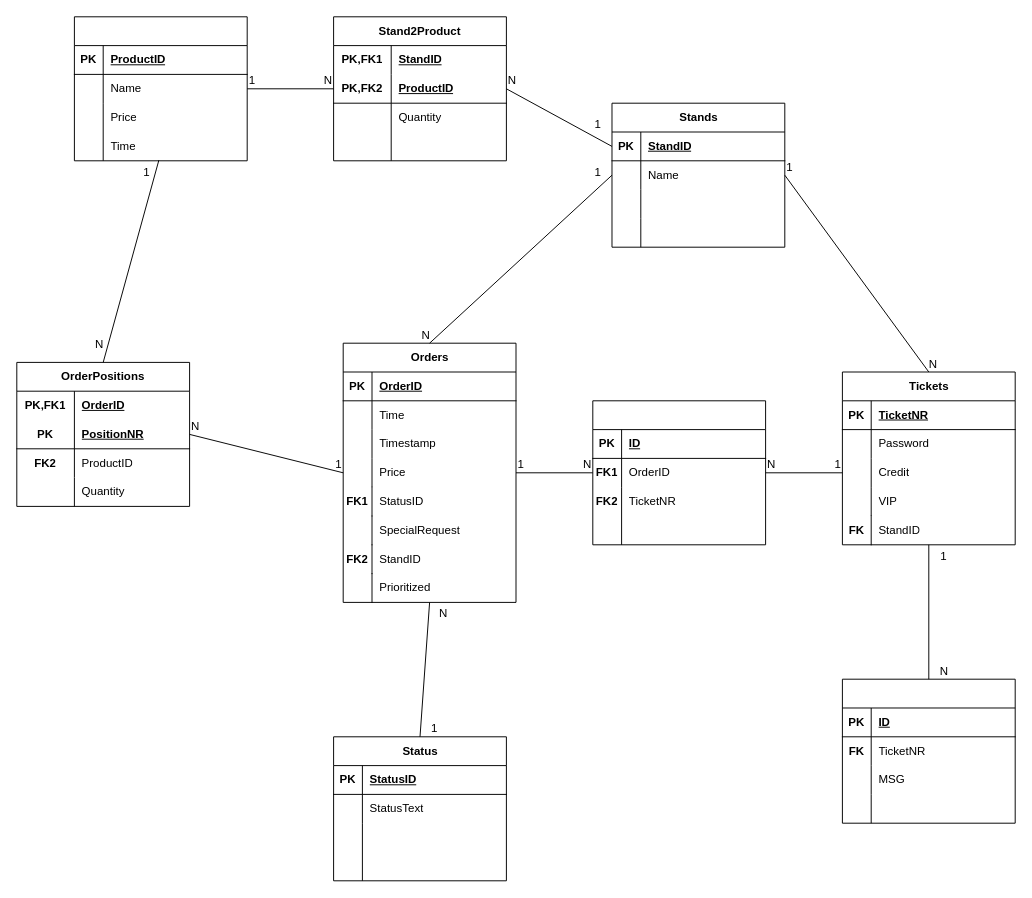
The diagram is 1032 pixels wide and 898 high, and some of its shapes have lost their labels. Each missing label, with the box of its shape:
Messages: (841, 678, 1015, 823)
Order2Ticket: (592, 400, 766, 545)
Products: (73, 16, 247, 161)
